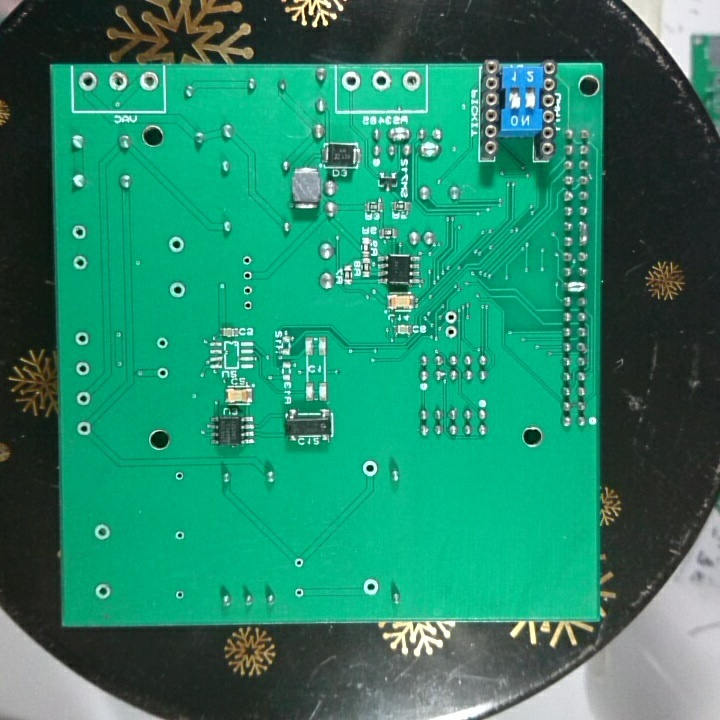F: (76, 69, 99, 93), (137, 69, 161, 92), (106, 69, 129, 92), (399, 69, 422, 92), (339, 69, 361, 93), (359, 456, 379, 481), (92, 520, 113, 543), (369, 69, 390, 92), (167, 278, 188, 301), (93, 579, 112, 604), (167, 234, 188, 255), (360, 575, 382, 595), (72, 328, 91, 349), (74, 418, 93, 438), (73, 389, 93, 408), (73, 358, 92, 378), (71, 252, 90, 272), (152, 333, 171, 352), (69, 222, 88, 240), (291, 584, 308, 602), (154, 364, 171, 382), (239, 266, 257, 282), (239, 282, 257, 298), (171, 468, 187, 485), (442, 325, 460, 340), (172, 527, 188, 543), (239, 298, 256, 313), (443, 308, 459, 323), (172, 587, 187, 603), (292, 554, 306, 571), (239, 252, 255, 266)
P: (384, 124, 412, 143), (417, 140, 444, 159), (562, 279, 588, 295), (577, 220, 590, 249)
